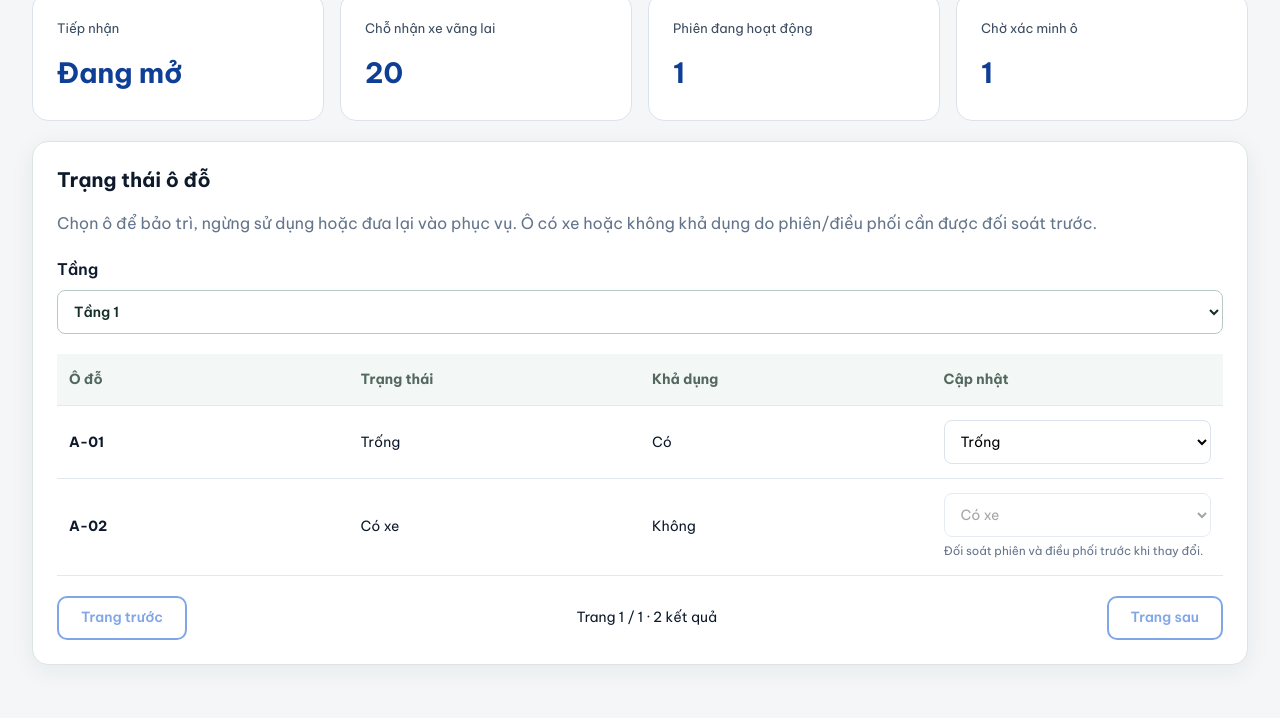
rechecks the slot and blocks a newly occupied position
This screenshot has width=1280, height=718.
(page scrolled)
Select "Bảo trì" in the dropdown named "Trạng thái A-01" at (1077, 442), box [944,420,1211,464]
(page scrolled)
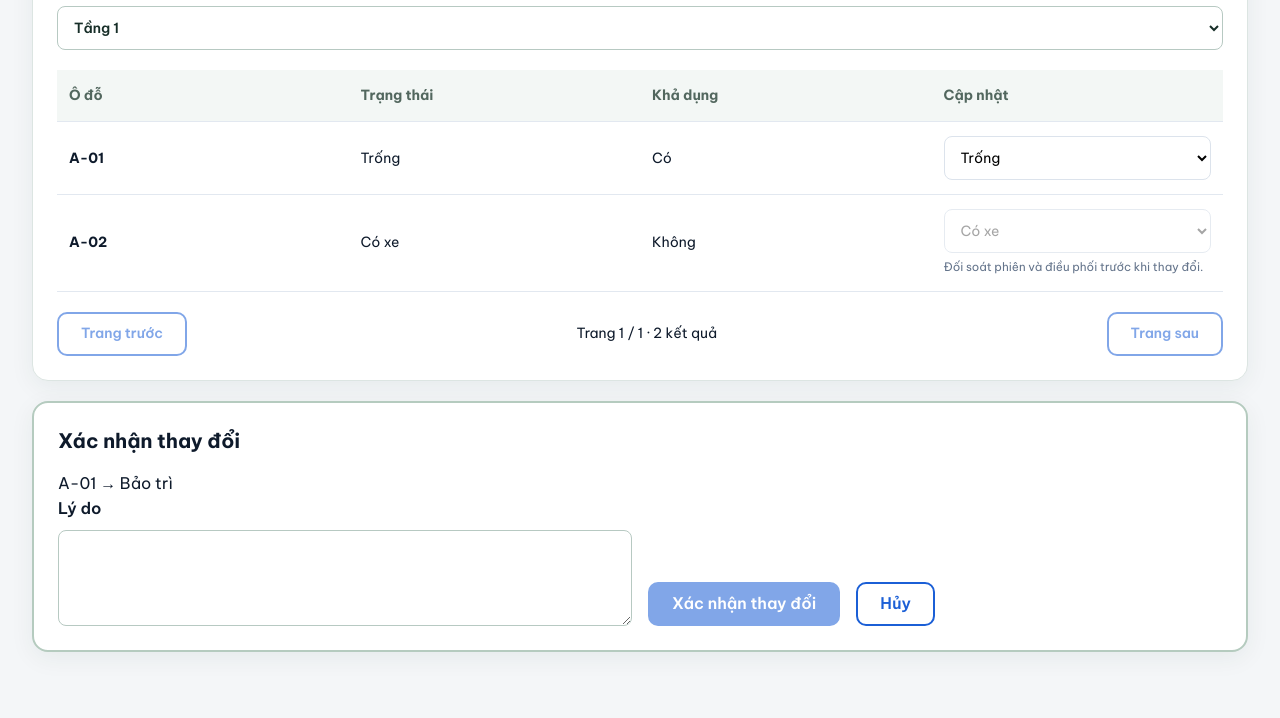
Type "Sửa cảm biến" into the text box labelled "Lý do".
click(345, 578); type("Sửa cảm biến")  # box [58,530,632,626]
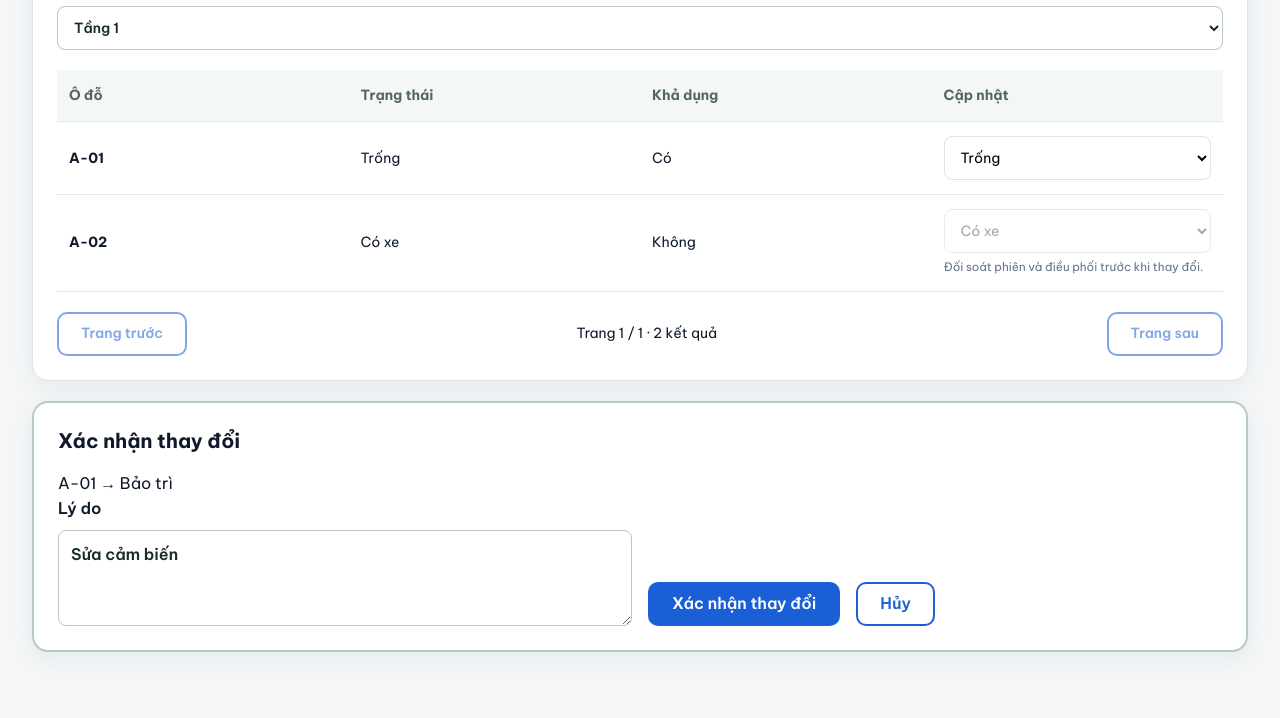
Click the button "Xác nhận thay đổi".
click(744, 604)  # box [648,582,840,626]
(page scrolled)
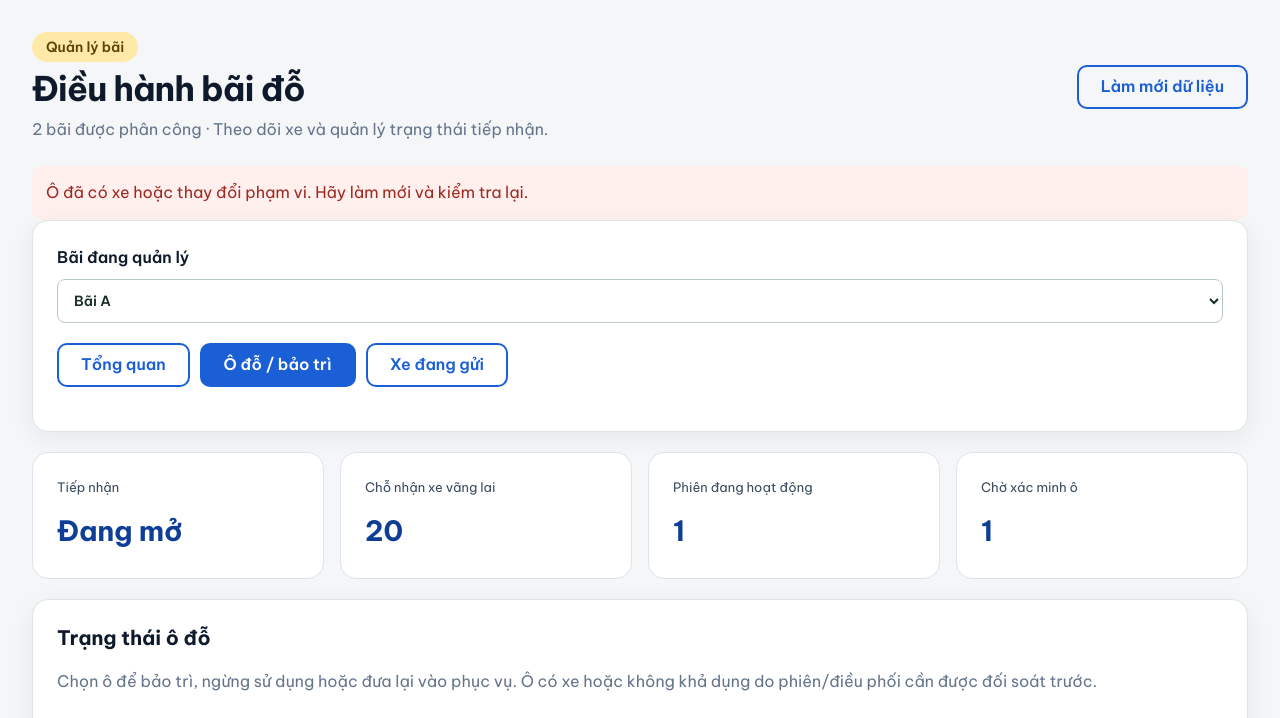
Check: the message "Ô đã có xe hoặc thay đổi phạm vi. Hãy làm mới và kiểm tra lại." is shown, box [32,166,1248,220]
